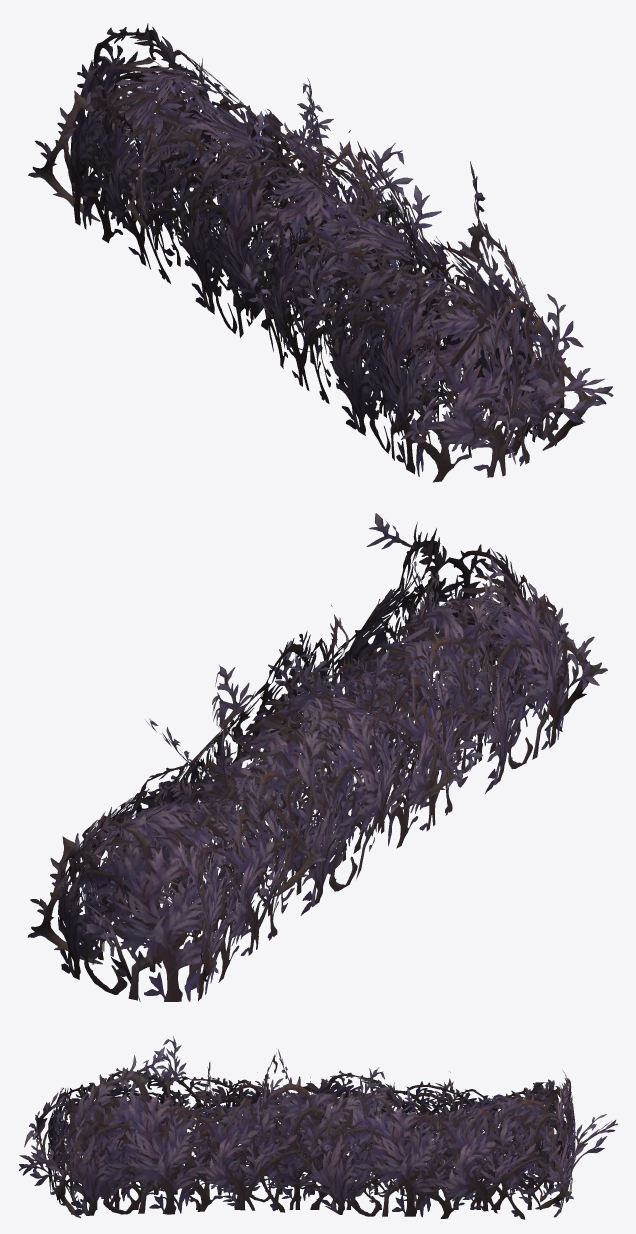
3 views of the same model, one above another, from view 1: azimuth 30°, elevation 25°; view 2: azimuth 150°, elevation 25°; view 3: azimuth 270°, elevation 25° (orthographic). The views are drawn at different scales.
Size of the model in its own units: 5.66 by 5.56 by 17.91.
1 material, 1 textured.
